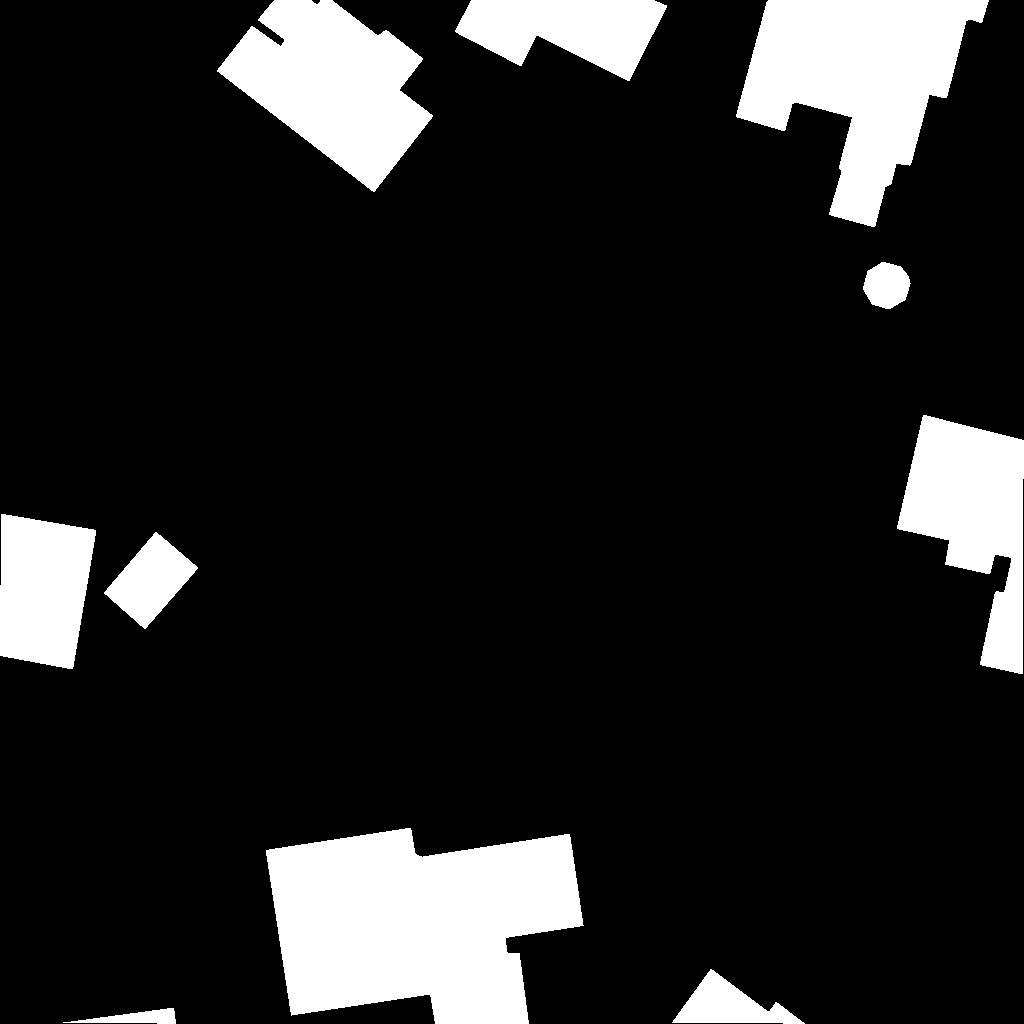building: (266, 828, 584, 1024), (736, 0, 990, 228), (217, 0, 434, 193), (897, 415, 1024, 675), (455, 0, 668, 82), (0, 514, 97, 670), (104, 532, 199, 630), (672, 969, 806, 1024), (863, 262, 911, 310), (60, 1008, 177, 1024)
